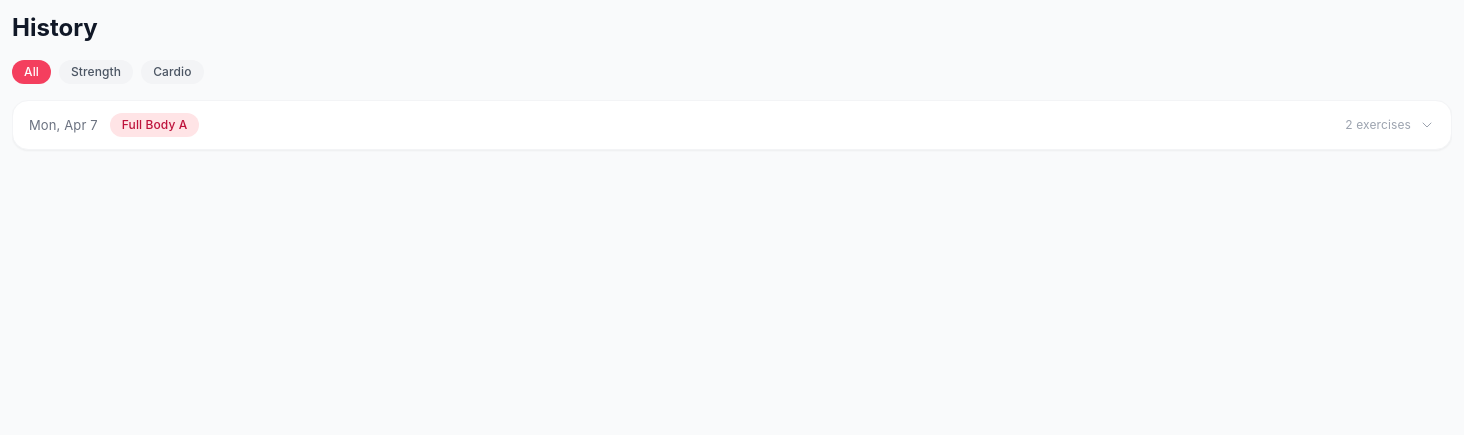
Scenario: History page › expanded strength session shows exercise names and set details
The width and height of the screenshot is (1464, 435).
Click the button with test id "session-header" at (63, 125), box [13,101,1451,149]
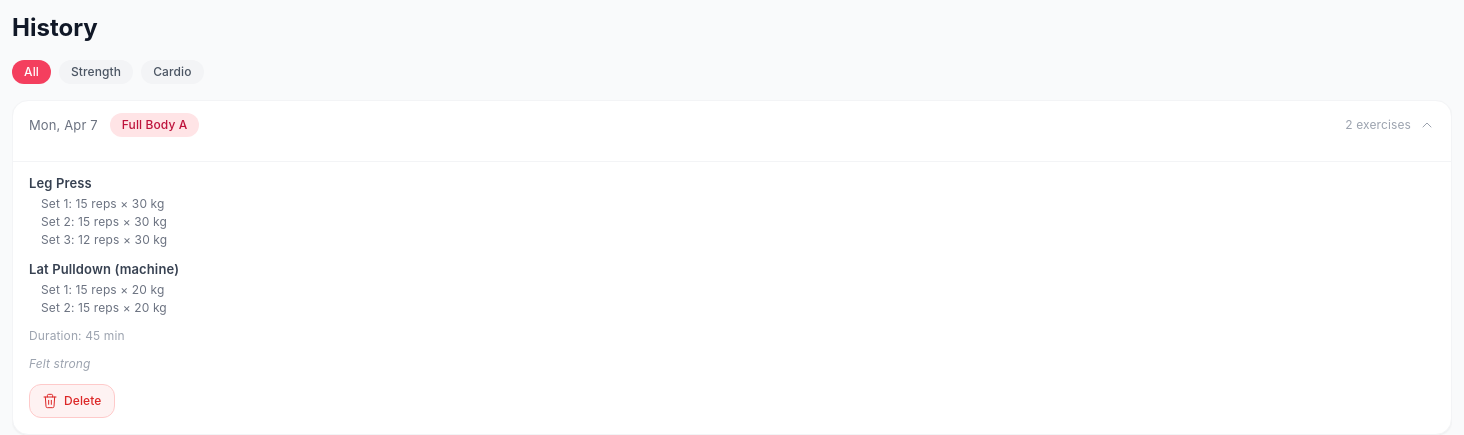
expect the number of elements with test id "detail-exercise-name" is 2: met, box [29,175,92,191]; [29,261,179,277]
expect the text with test id "detail-exercise-name" reads "Leg Press": met, box [29,175,92,191]
expect the text with test id "detail-exercise-name" reads "Lat Pulldown (machine)": met, box [29,261,179,277]
